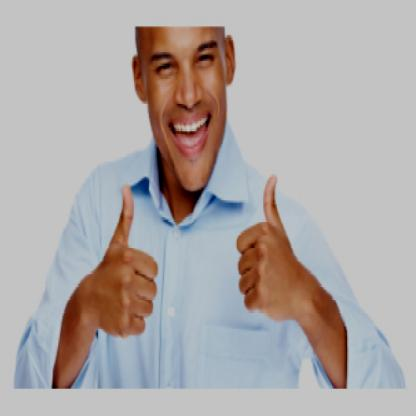Thumbs up: (94, 180, 160, 354), (231, 159, 295, 324)
